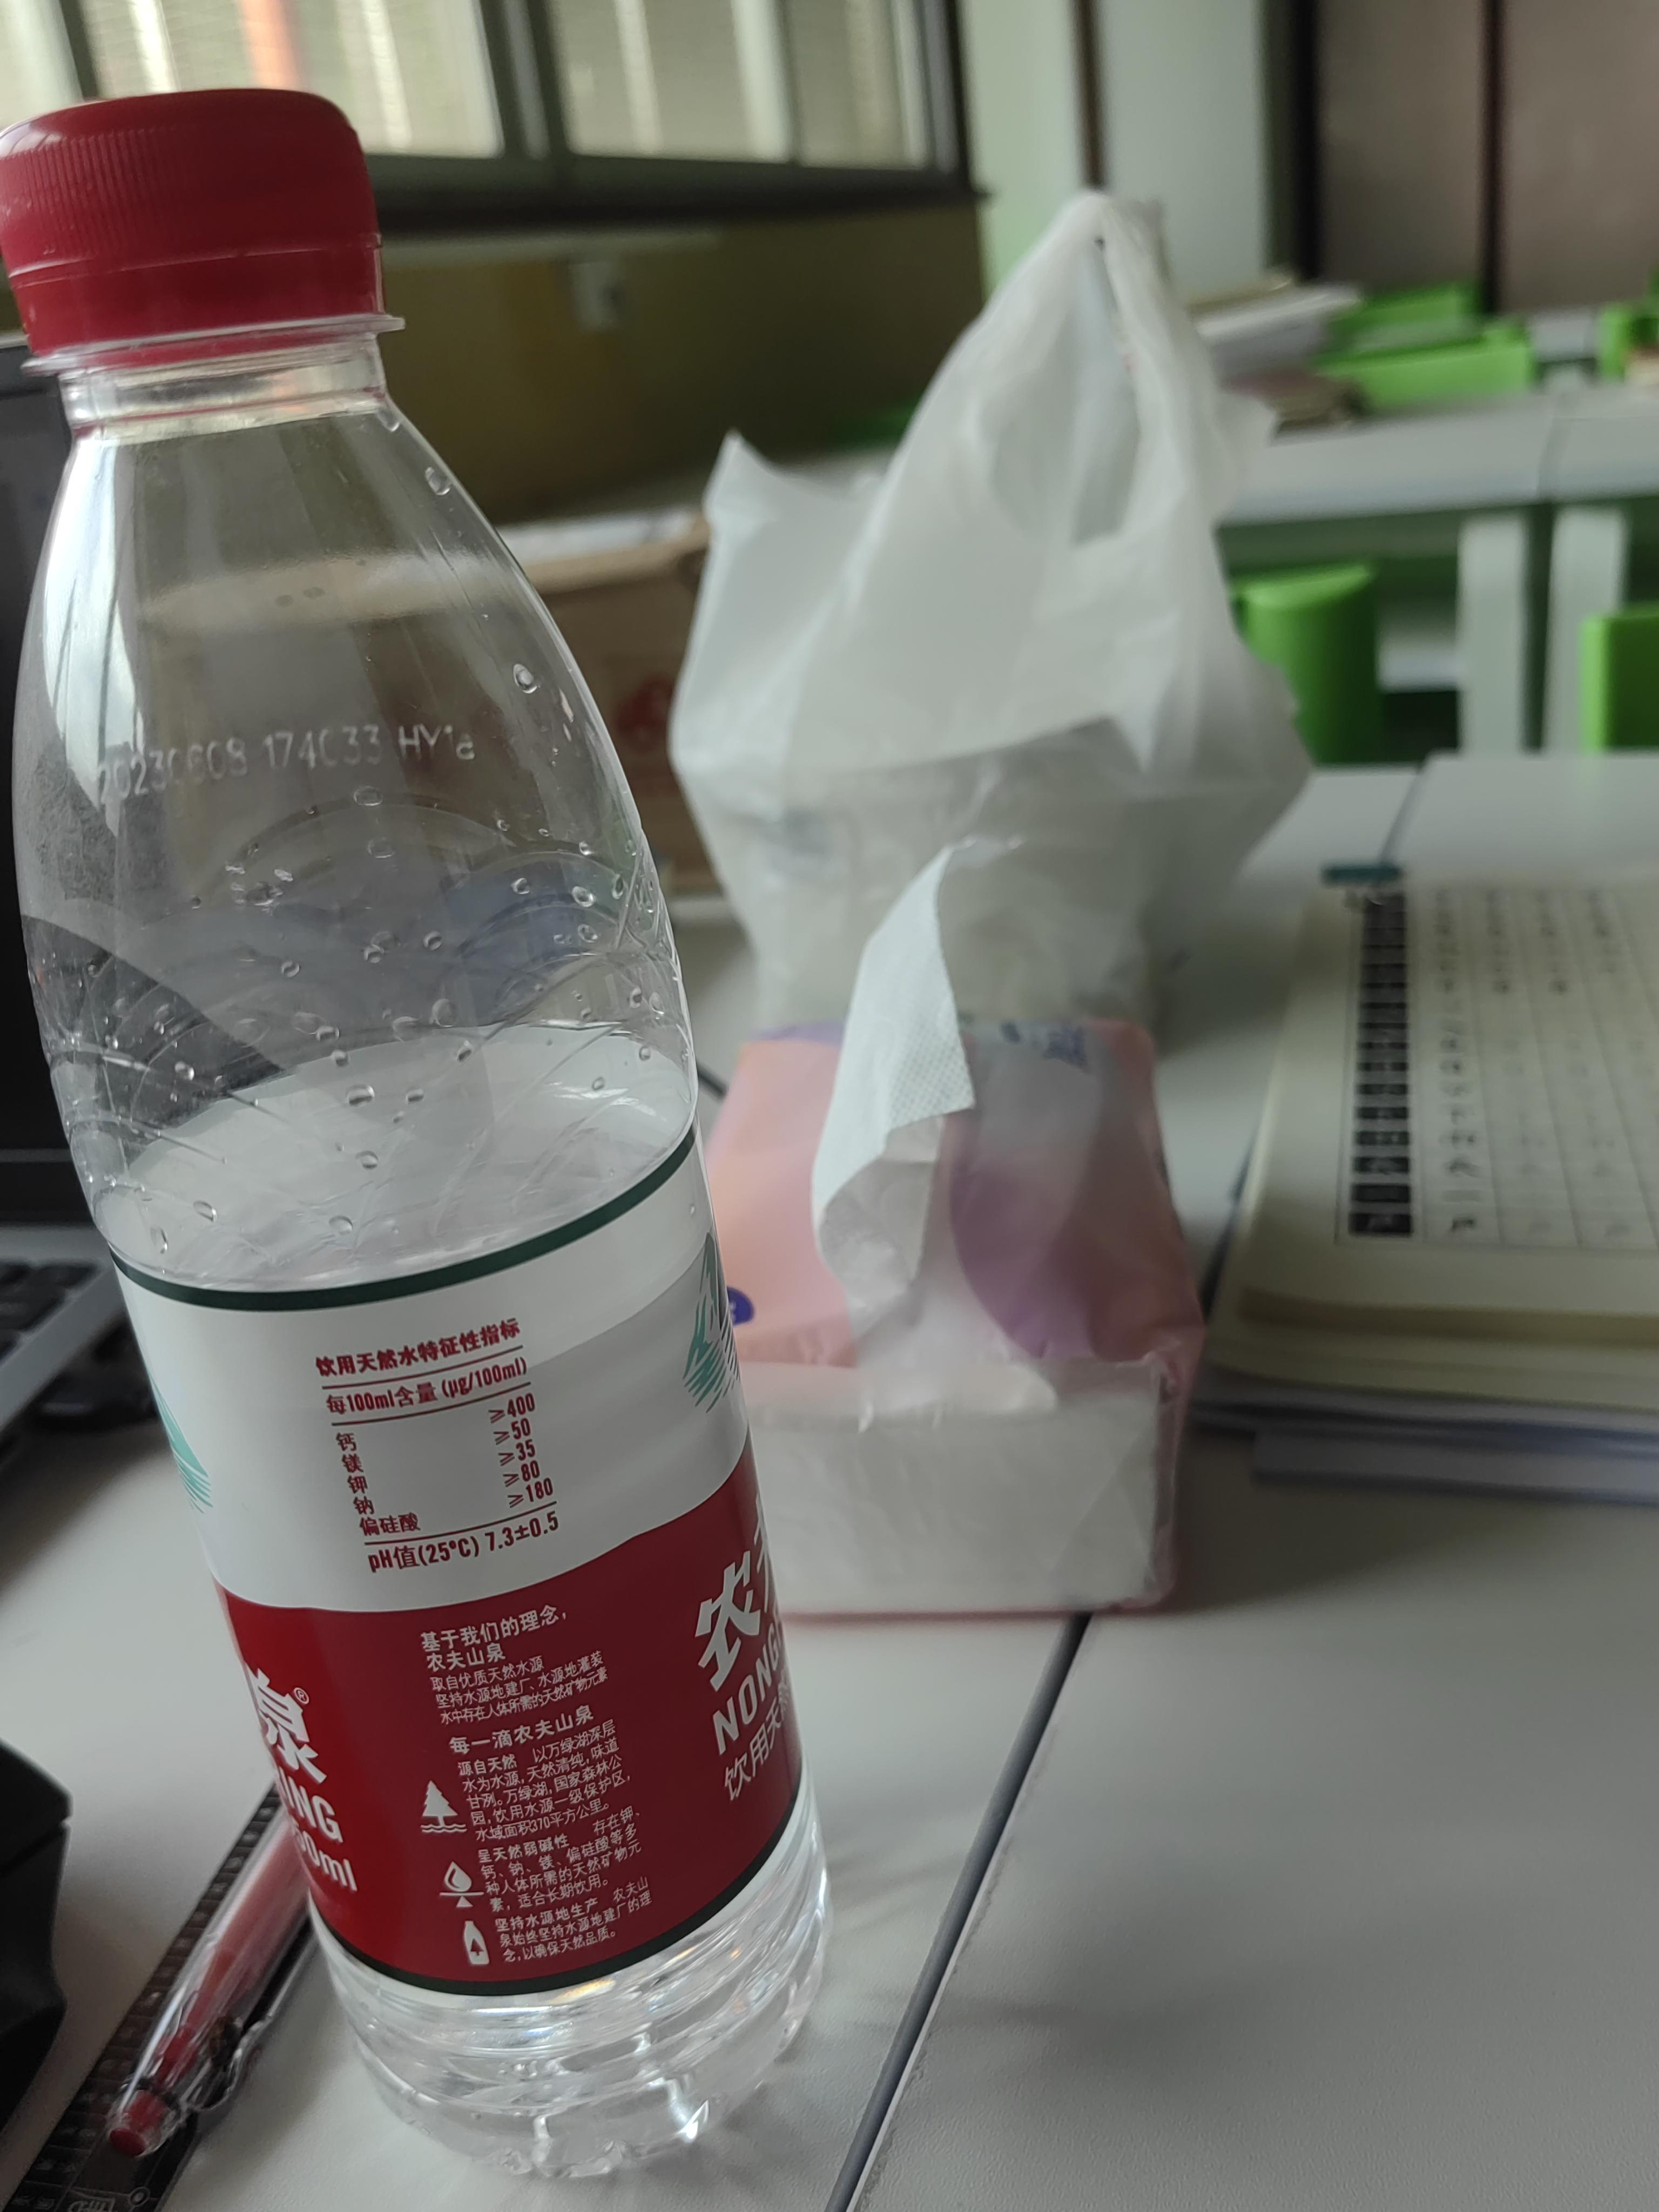BIODEGRADABLE: (0, 93, 828, 2201)
